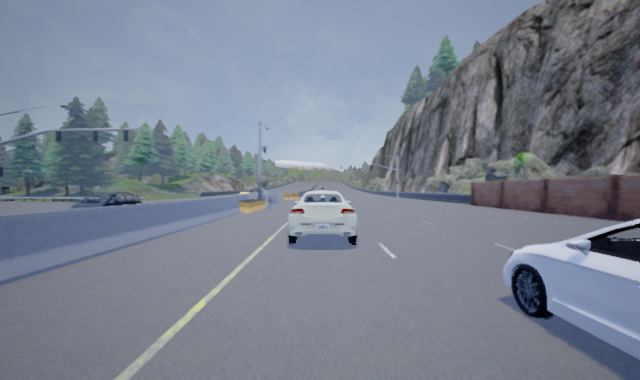vehicle: (501, 215, 640, 380), (286, 189, 358, 246), (67, 191, 142, 208)
